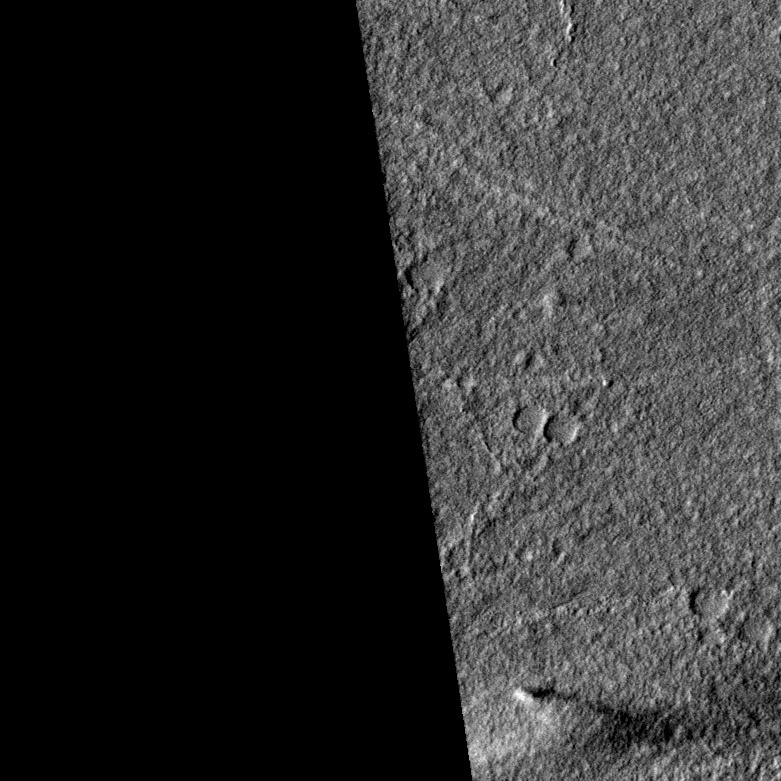dust_devil: (510, 685, 717, 755)
